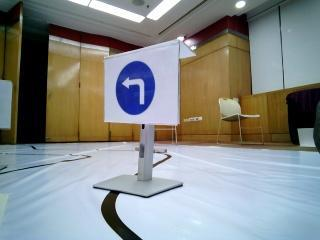left: (106, 55, 178, 127)
